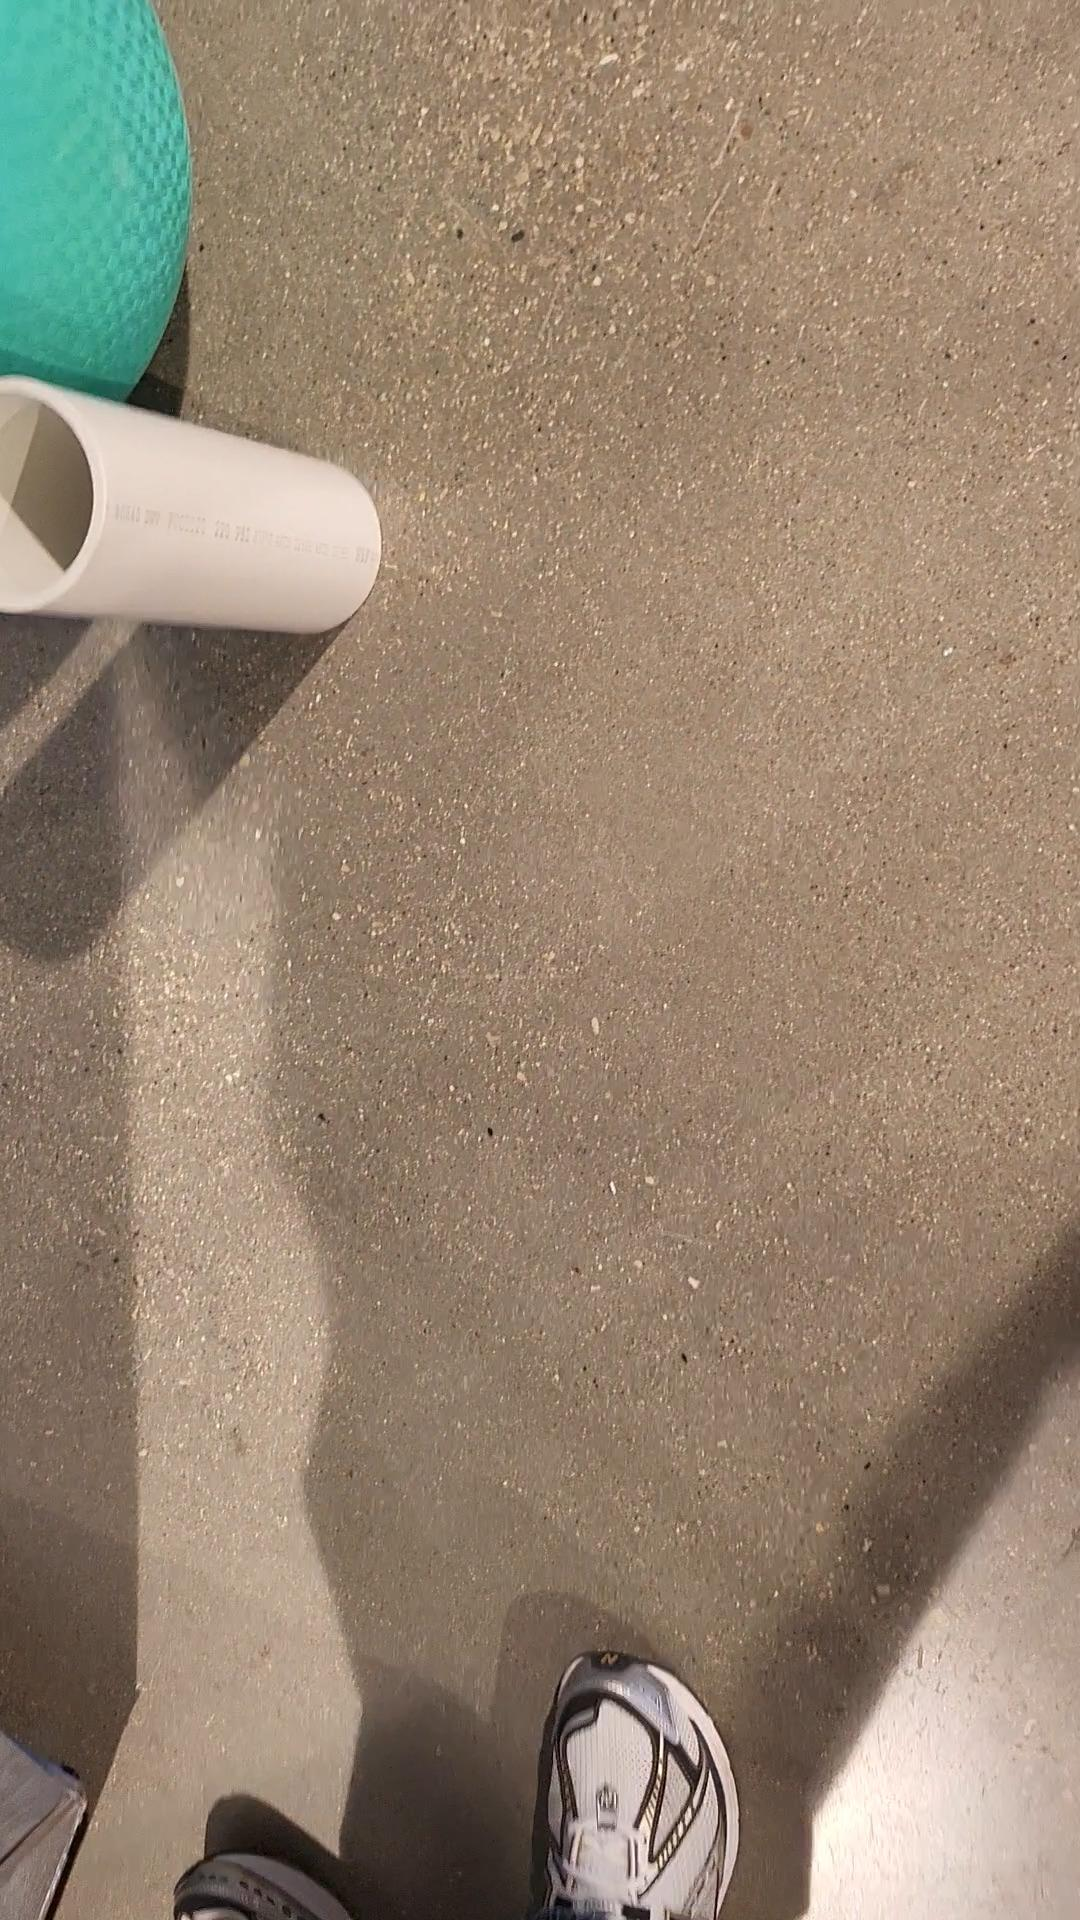algae: (0, 0, 192, 405)
coral: (0, 377, 382, 640)
